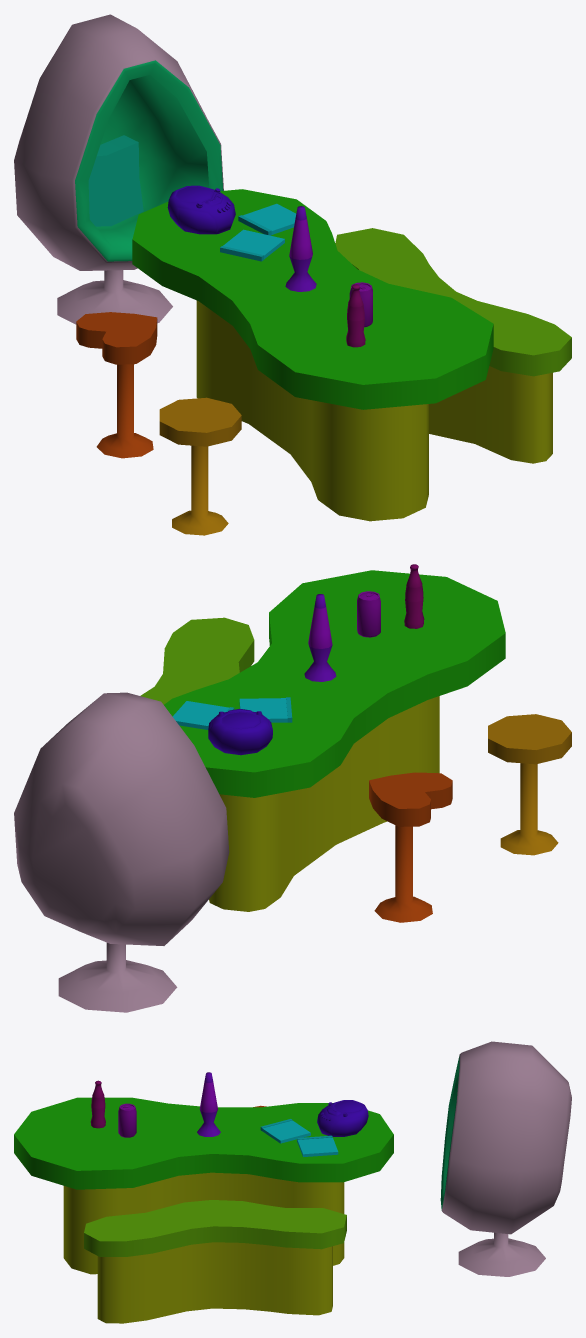
Rendered from SM_Y2KTable.fbx.
The picture shows the model from 3 angles, top to bottom: view 1: azimuth 30°, elevation 25°; view 2: azimuth 150°, elevation 25°; view 3: azimuth 270°, elevation 25°; orthographic projection. The views are drawn at different scales.
Parts seen in each view (by area): view 1: table_low, stuff_low; view 2: table_low, stuff_low; view 3: table_low, stuff_low.
Part boxes in pixels (<box>): table_low: <box>14,14,571,535</box>; stuff_low: <box>167,185,372,347</box>; table_low: <box>14,570,571,1012</box>; stuff_low: <box>172,564,424,755</box>; table_low: <box>14,1041,571,1323</box>; stuff_low: <box>90,1072,368,1156</box>.
Size of the model in its own units: 298 by 205 by 493.
